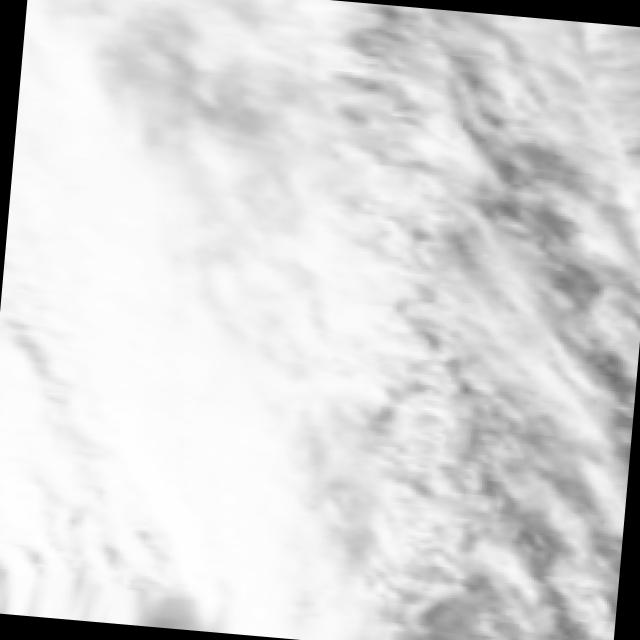CB: (0, 140, 229, 396), (180, 156, 388, 398), (0, 374, 198, 621), (188, 386, 375, 624), (13, 0, 230, 173)
